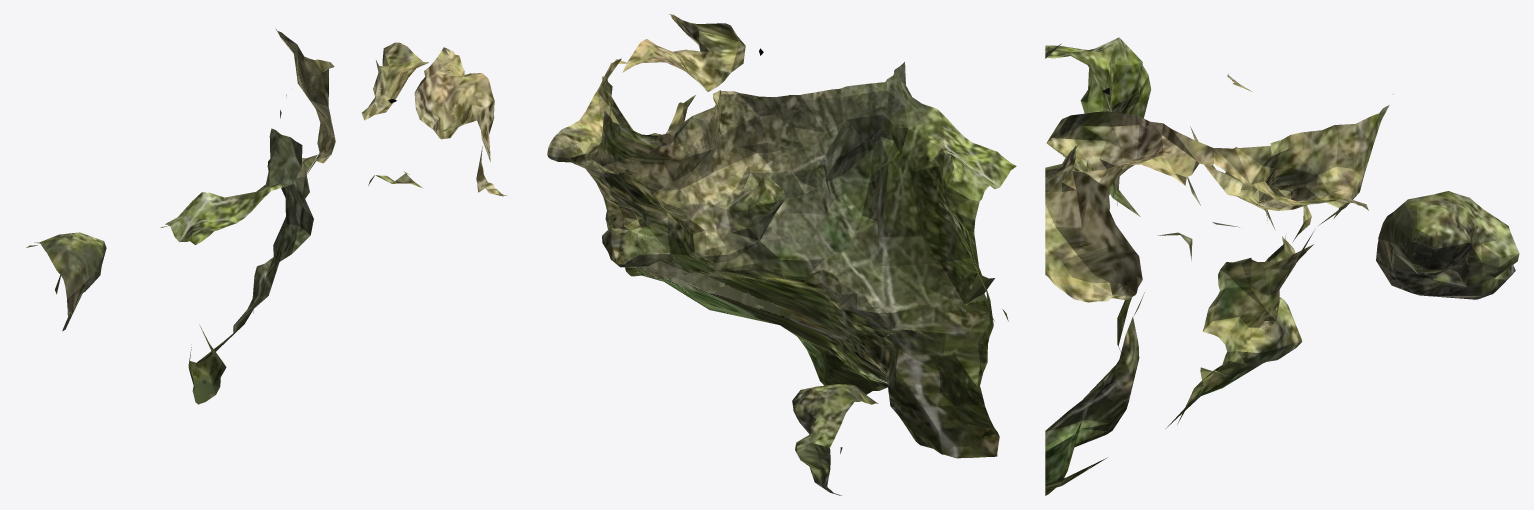
3 renders of one model, left to right at view 1: azimuth 30°, elevation 25°; view 2: azimuth 150°, elevation 25°; view 3: azimuth 270°, elevation 25°, orthographic. The views are drawn at different scales.
Bounding box in the file's own units: 2.95 × 2.95 × 2.89.
4 materials, 4 textured.
